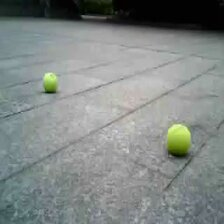tennis: (165, 123, 191, 156), (42, 73, 57, 91)
